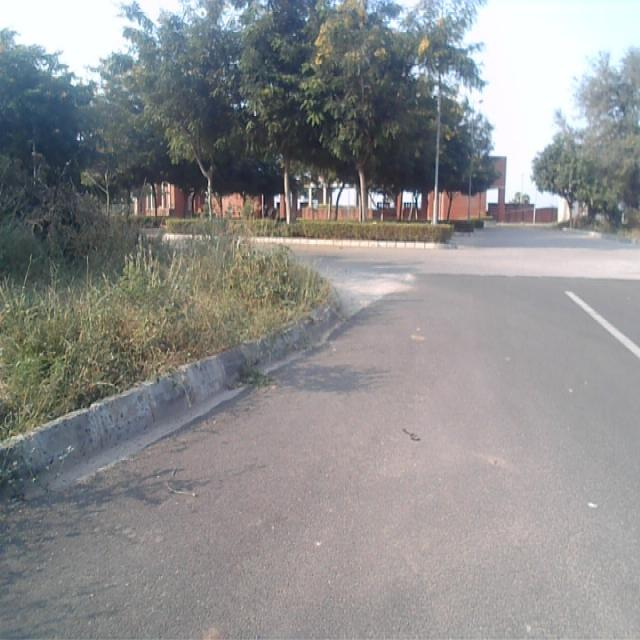lane: (0, 277, 640, 640)
